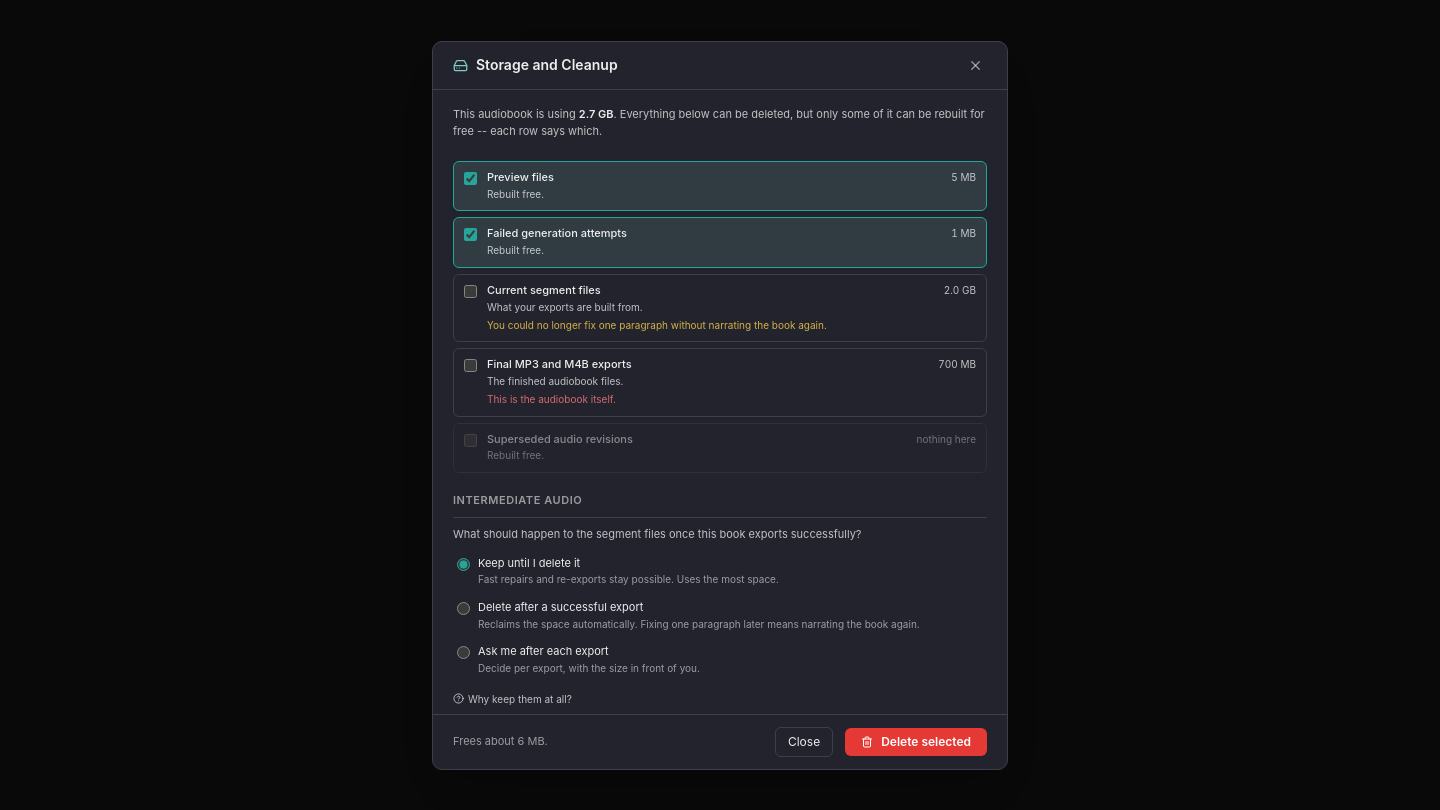
Test: StorageDialog › surfaces files that would not delete instead of claiming success
This screenshot has width=1440, height=810.
Expected: the text "Preview files" is shown, x1=487 y1=170 x2=554 y2=186
Click the button "Delete selected" at {"x": 916, "y": 742}, box x1=845 y1=728 x2=987 y2=756
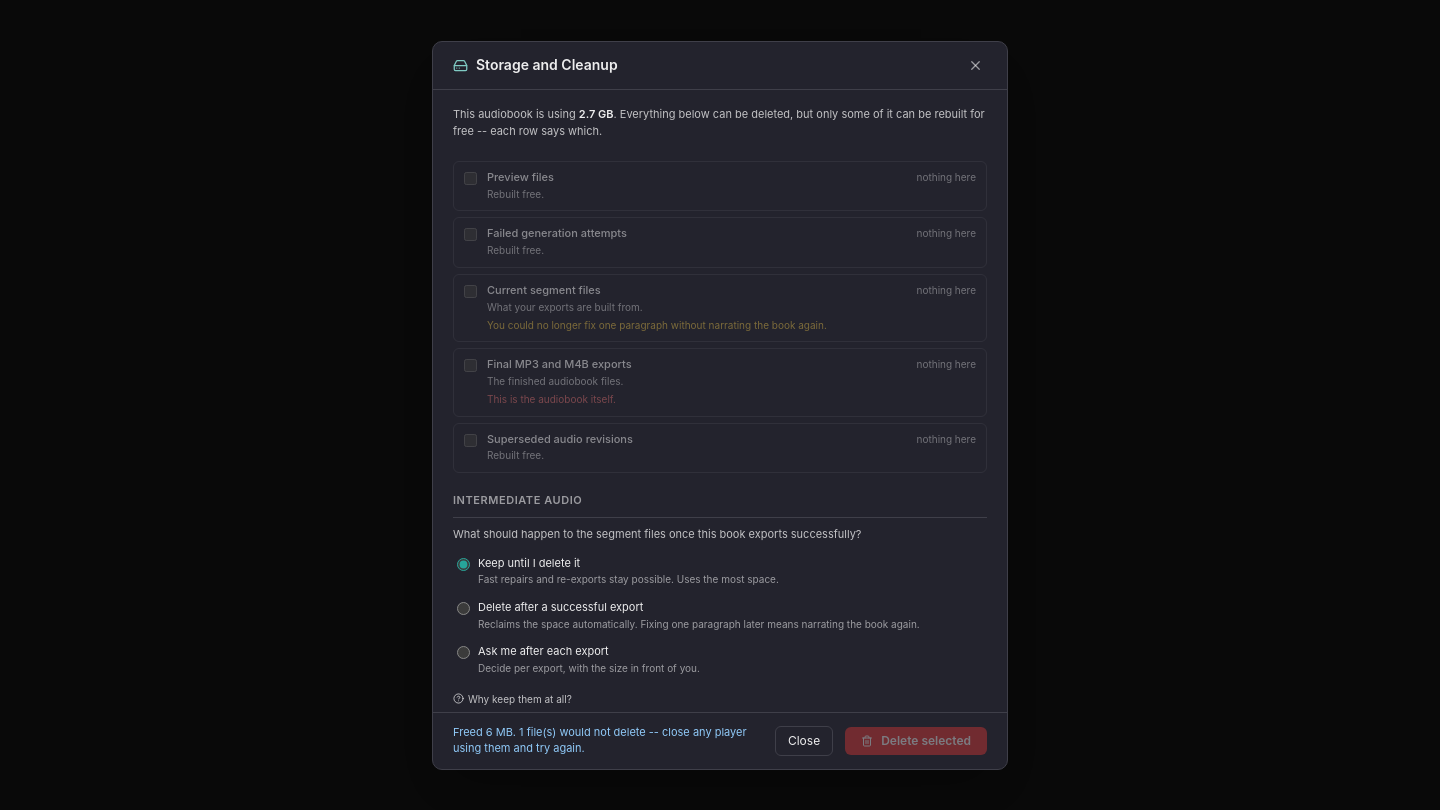
Result: the text "1 file(s) would not delete" is shown at x1=453 y1=725 x2=747 y2=754
